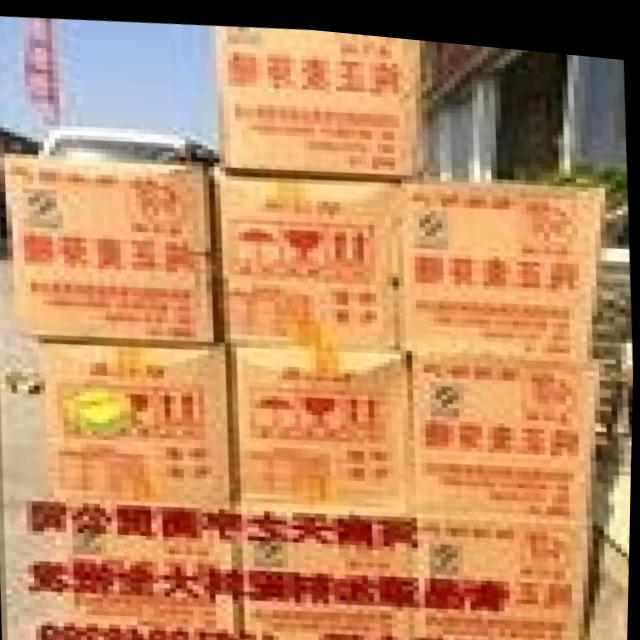box: (5, 157, 215, 338), (405, 173, 605, 353), (220, 164, 404, 341), (35, 339, 232, 501), (417, 344, 600, 515), (226, 342, 415, 507), (30, 499, 243, 640), (212, 22, 417, 167), (240, 504, 418, 640), (416, 513, 595, 640)
